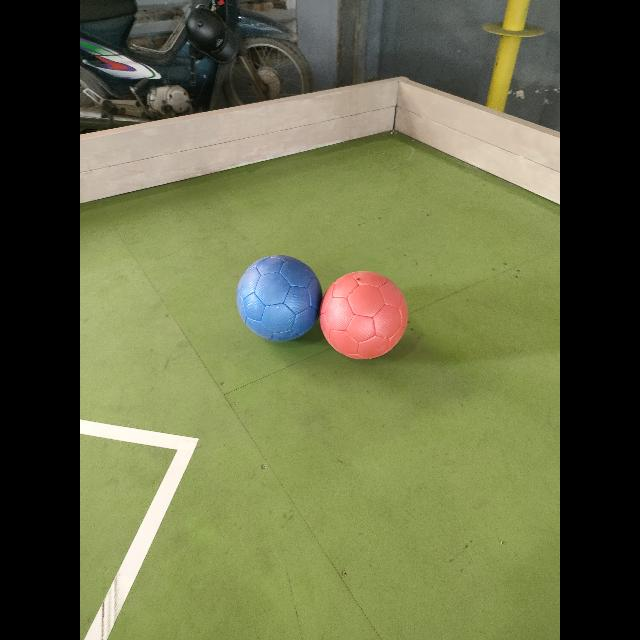B: (238, 255, 321, 341)
R: (320, 271, 408, 359)
